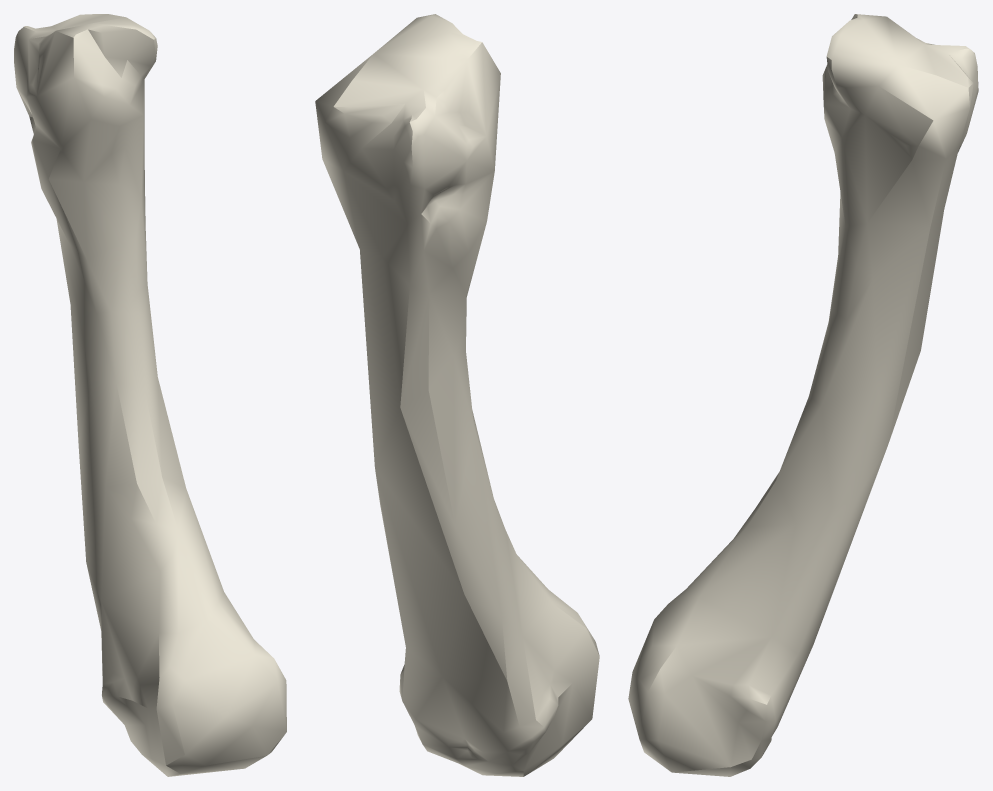
File: fma24470_fj6450.glb
The picture shows the model from 3 angles, left to right: view 1: azimuth 30°, elevation 25°; view 2: azimuth 150°, elevation 25°; view 3: azimuth 270°, elevation 25°; orthographic projection. The views are drawn at different scales.
Visible parts, largest first — view 1: FMA24470_FJ6450; view 2: FMA24470_FJ6450; view 3: FMA24470_FJ6450.
Boxes of the visible parts, x1,y1,x2,y2 form: FMA24470_FJ6450: [14, 14, 286, 776]; FMA24470_FJ6450: [315, 14, 599, 776]; FMA24470_FJ6450: [628, 14, 978, 776].
Size of the model in its own units: 0.0123 by 0.0599 by 0.026.
